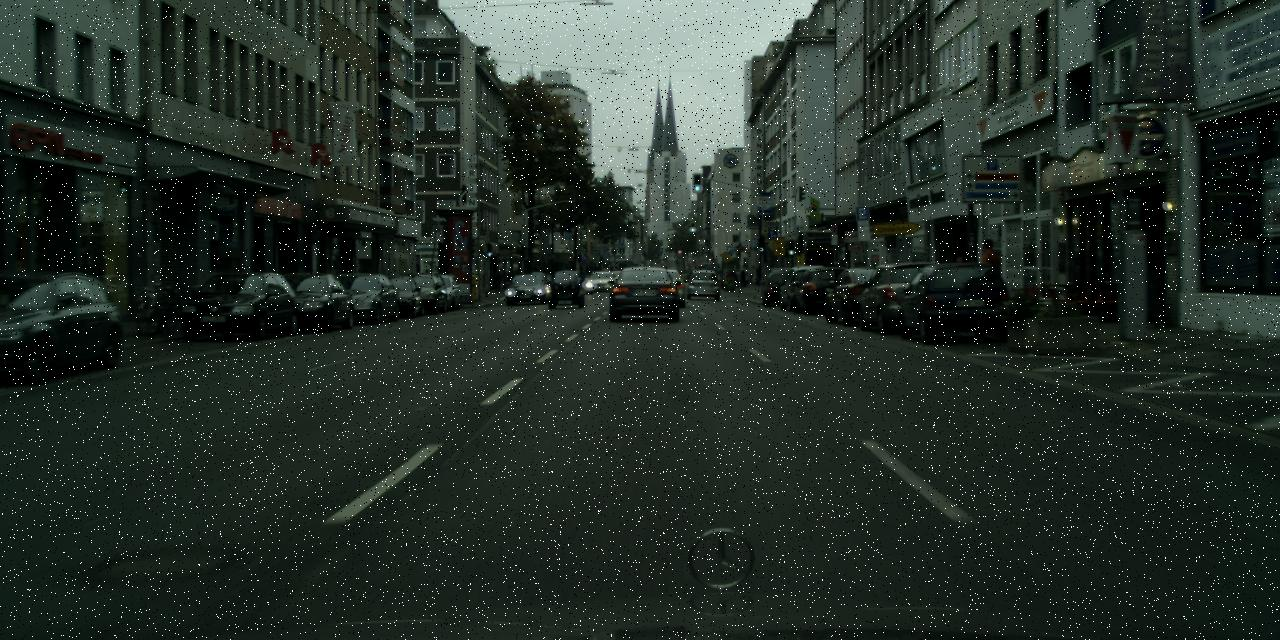ped: (974, 238, 1008, 318), (946, 256, 968, 311), (740, 264, 751, 288), (754, 264, 762, 284)
